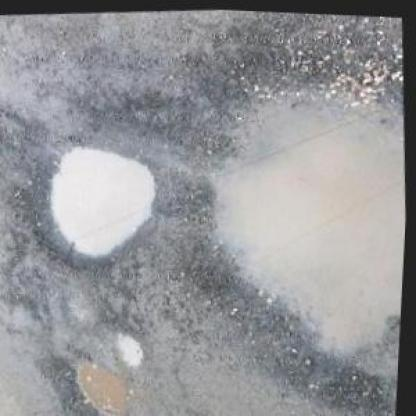pothole: (158, 51, 413, 409), (21, 128, 166, 270), (50, 346, 141, 414), (111, 328, 151, 368)
